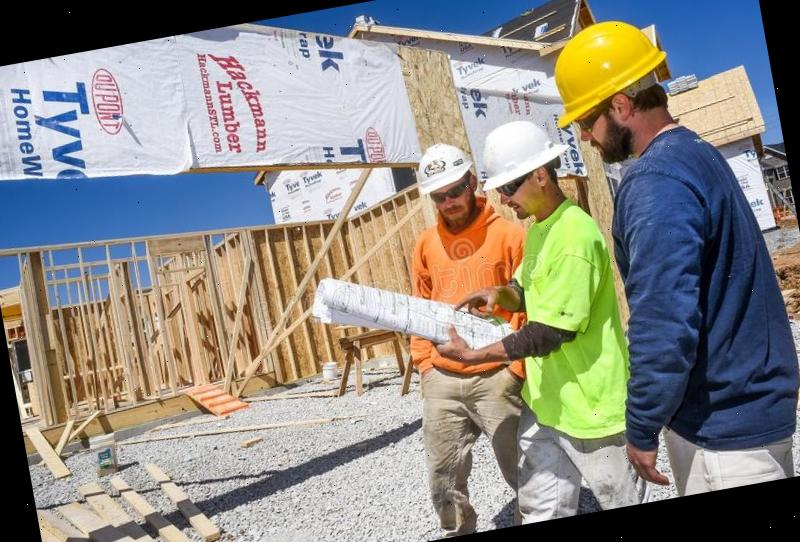helmet: (526, 4, 678, 135), (466, 110, 580, 196), (406, 138, 480, 200)
no_wear: (595, 139, 793, 448), (504, 207, 640, 433), (405, 214, 535, 374)
